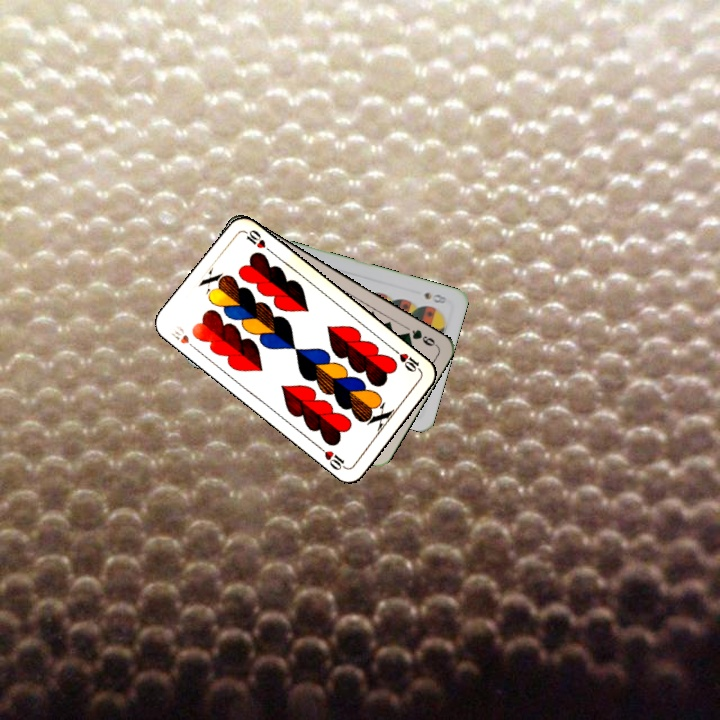G9: (399, 325, 439, 349)
H10: (390, 346, 424, 376), (167, 327, 200, 353)
S8: (420, 288, 449, 306)
